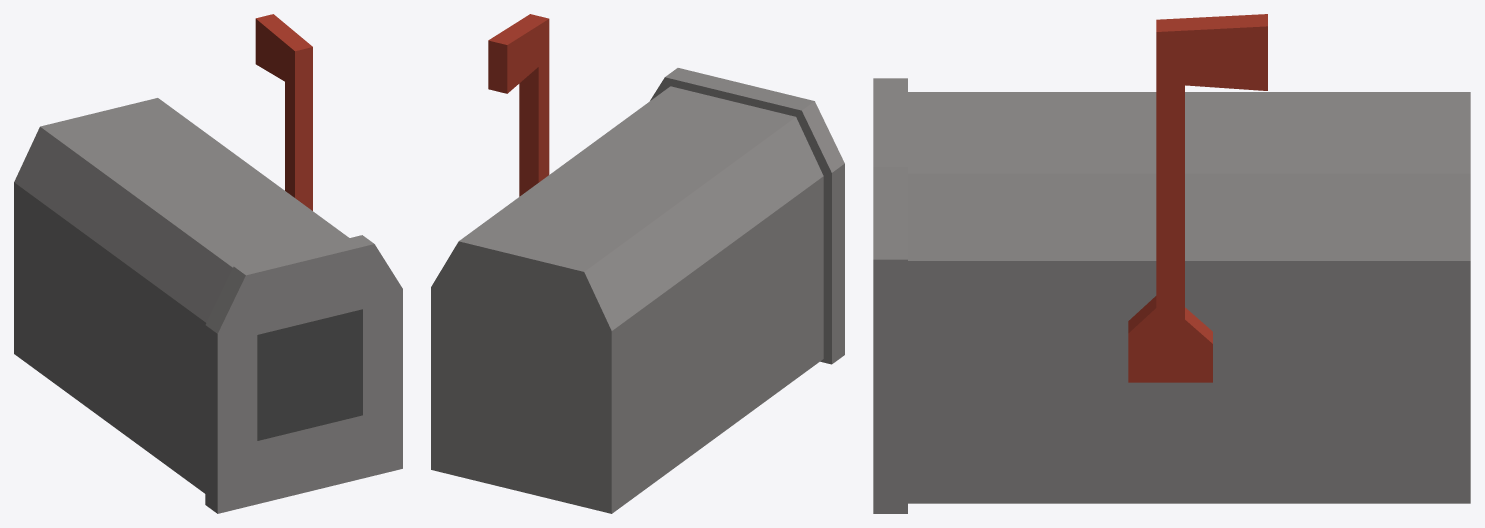
Rendered from SM_Prop_LetterBox_03.fbx.
The picture shows the model from 3 angles, left to right: view 1: azimuth 30°, elevation 25°; view 2: azimuth 150°, elevation 25°; view 3: azimuth 270°, elevation 25°; orthographic projection. The views are drawn at different scales.
Visible parts, largest first — view 1: SM_Prop_LetterBox_03, SM_Prop_LetterBox_03_Flag; view 2: SM_Prop_LetterBox_03, SM_Prop_LetterBox_03_Flag; view 3: SM_Prop_LetterBox_03, SM_Prop_LetterBox_03_Flag.
Part boxes in pixels (<box>): SM_Prop_LetterBox_03: <box>14,98,402,513</box>; SM_Prop_LetterBox_03_Flag: <box>255,14,312,210</box>; SM_Prop_LetterBox_03: <box>431,68,844,513</box>; SM_Prop_LetterBox_03_Flag: <box>488,14,549,196</box>; SM_Prop_LetterBox_03: <box>873,78,1470,513</box>; SM_Prop_LetterBox_03_Flag: <box>1128,14,1267,382</box>.
Bounding box in the file's own units: 24.13 × 41.29 × 45.17.
